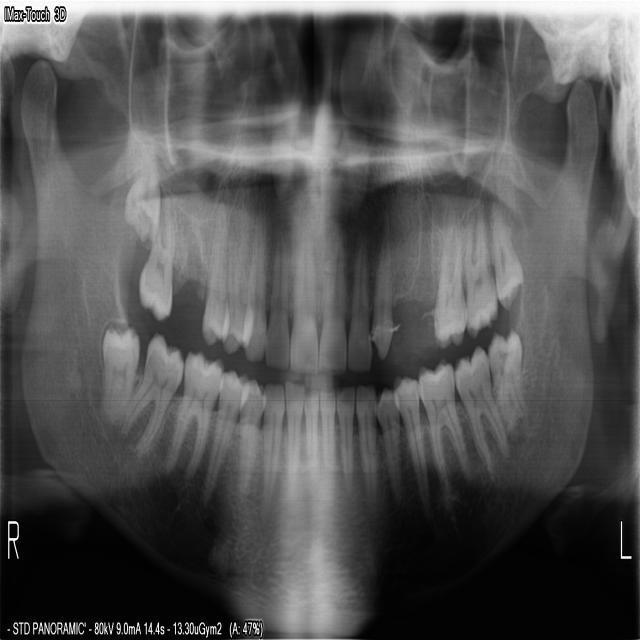LCD: (334, 383, 354, 476)
LCU: (371, 225, 394, 357)
LID: (318, 381, 338, 469), (303, 385, 319, 469)
LIU: (317, 225, 346, 374), (345, 237, 372, 375)
LMU: (413, 358, 474, 510), (453, 341, 510, 480), (391, 370, 432, 512), (463, 203, 500, 340), (486, 331, 528, 438), (488, 201, 523, 316)
LPMU: (430, 215, 465, 350), (375, 381, 405, 499), (354, 379, 377, 499)
RCD: (234, 374, 266, 499)
RCU: (240, 213, 268, 365)
RID: (258, 375, 284, 519), (283, 376, 303, 471)
RIU: (287, 210, 319, 377), (263, 219, 291, 370)
RMD: (112, 328, 183, 470), (98, 320, 140, 428)
RMU: (133, 207, 174, 321)
RPMD: (161, 350, 227, 485), (199, 365, 250, 505)
RPMU: (197, 206, 230, 349), (220, 212, 250, 353)
